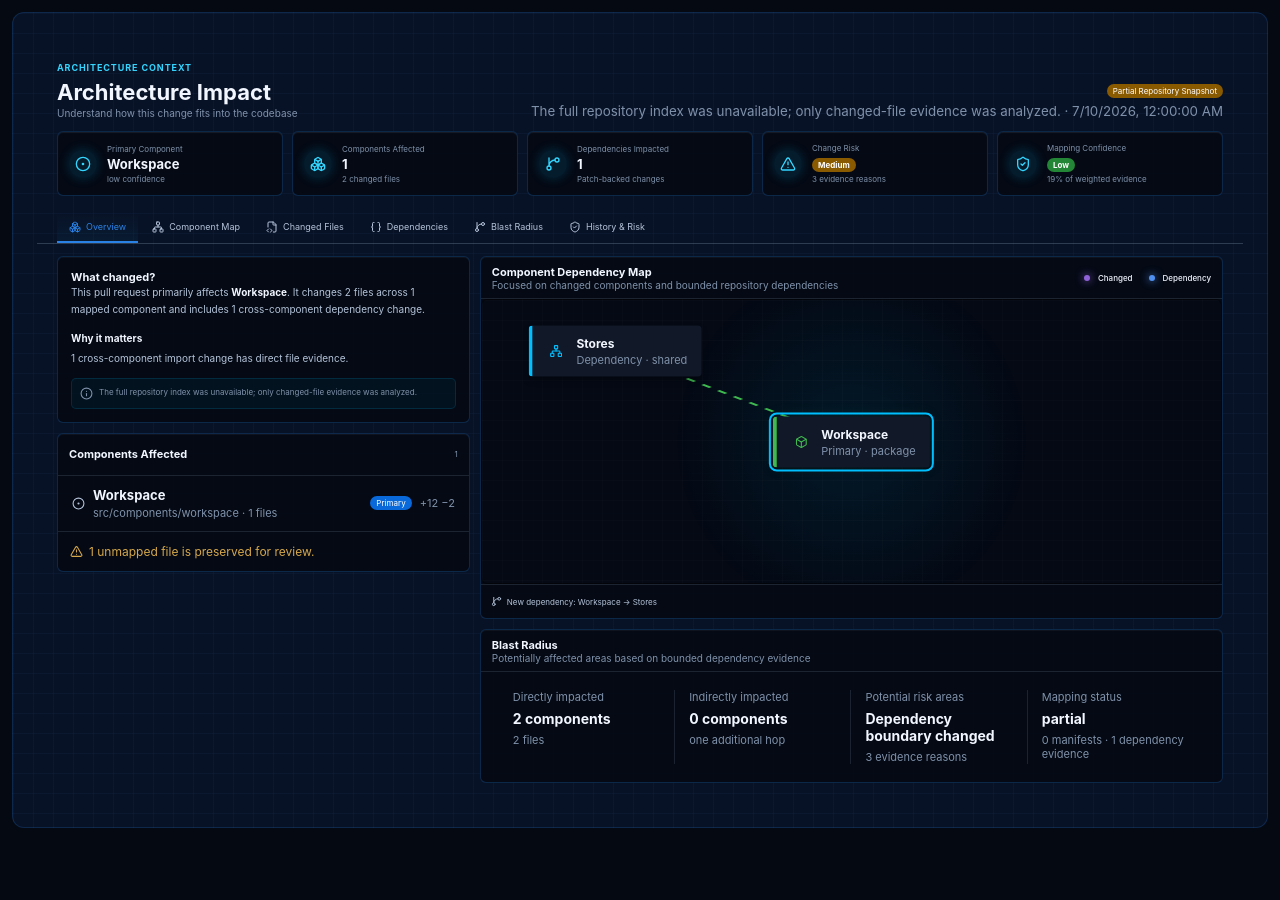
Test: ArchitectureContext › shows dependency evidence only when the patch supports it
The width and height of the screenshot is (1280, 900).
Click the tab "Dependencies": coordinates (409, 228) [358, 212, 460, 243]
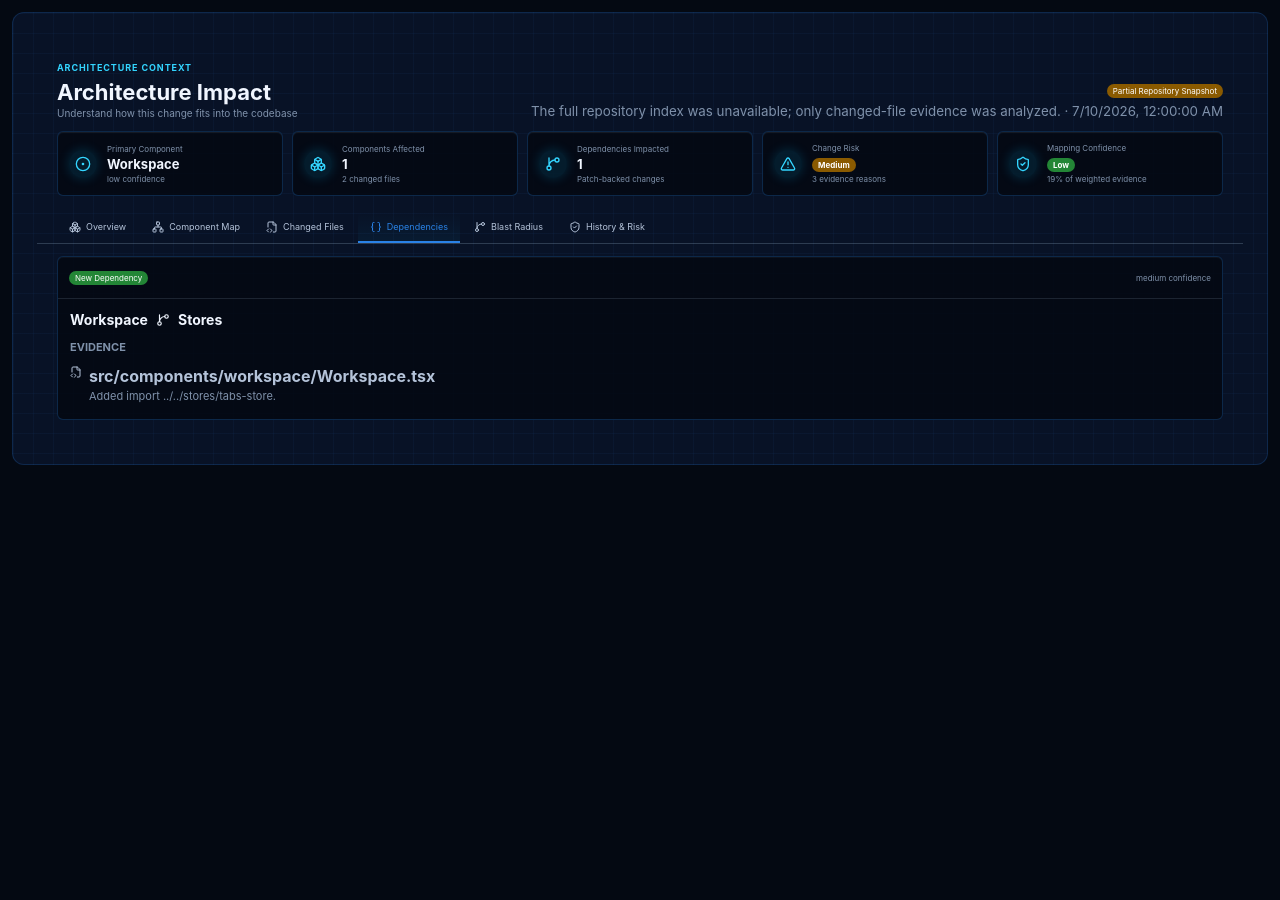
Check: the text "Added import ../../stores/tabs-store." is shown, box [89, 389, 276, 403]
